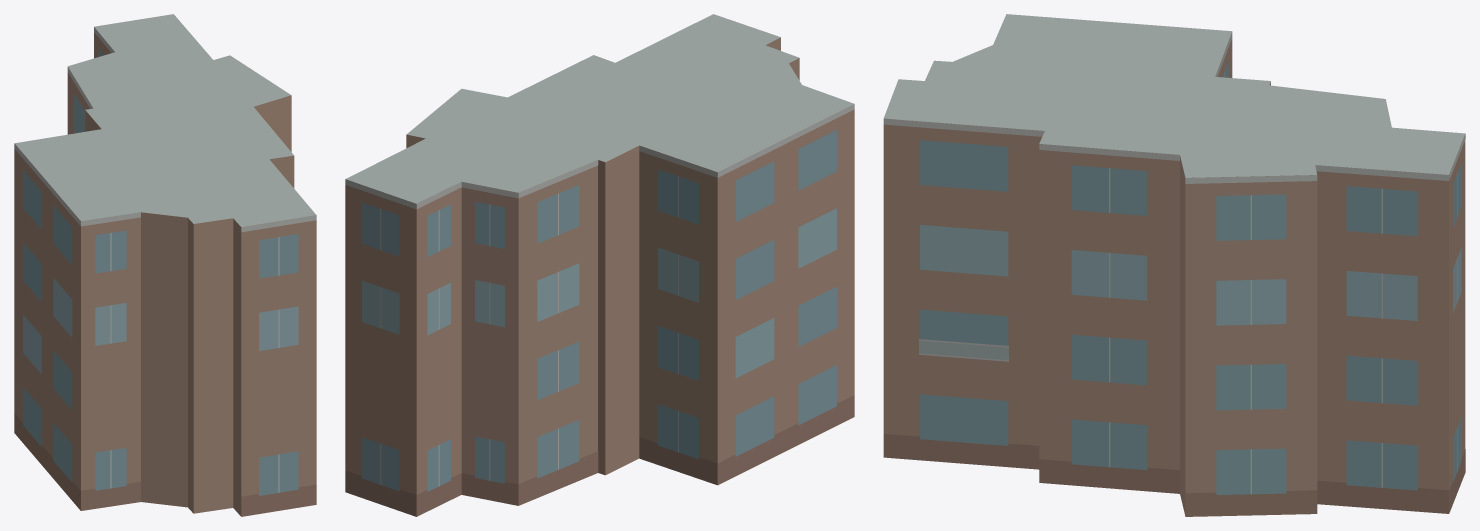
File: survey-upis-32967739.glb
The picture shows the model from 3 angles, left to right: view 1: azimuth 30°, elevation 25°; view 2: azimuth 150°, elevation 25°; view 3: azimuth 270°, elevation 25°; orthographic projection. The views are drawn at different scales.
Visible parts, largest first — view 1: survey-upis-32967739.tmp; view 2: survey-upis-32967739.tmp; view 3: survey-upis-32967739.tmp.
Part boxes in pixels (x1,y1,x2,y2): survey-upis-32967739.tmp: (14,14,316,516); survey-upis-32967739.tmp: (345,14,854,516); survey-upis-32967739.tmp: (883,14,1465,516).
Bounding box in the file's own units: 14.12 × 13.6 × 21.17.
